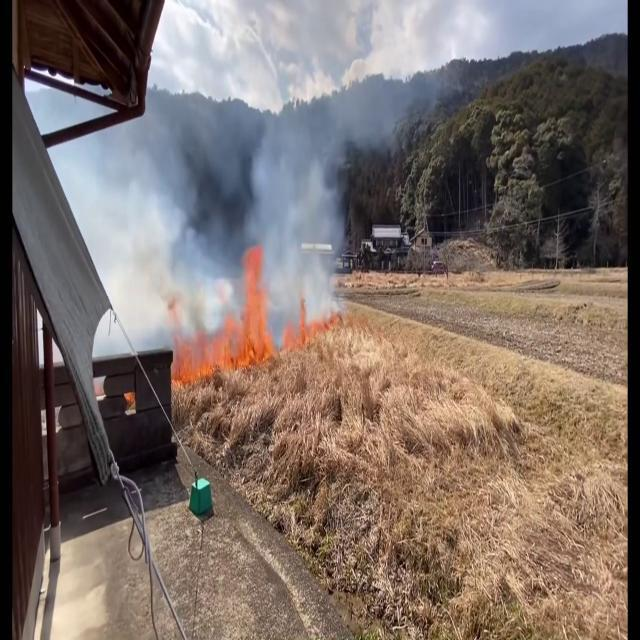Fire: (172, 236, 276, 390), (280, 292, 342, 358)
Smoke: (109, 49, 357, 348)
